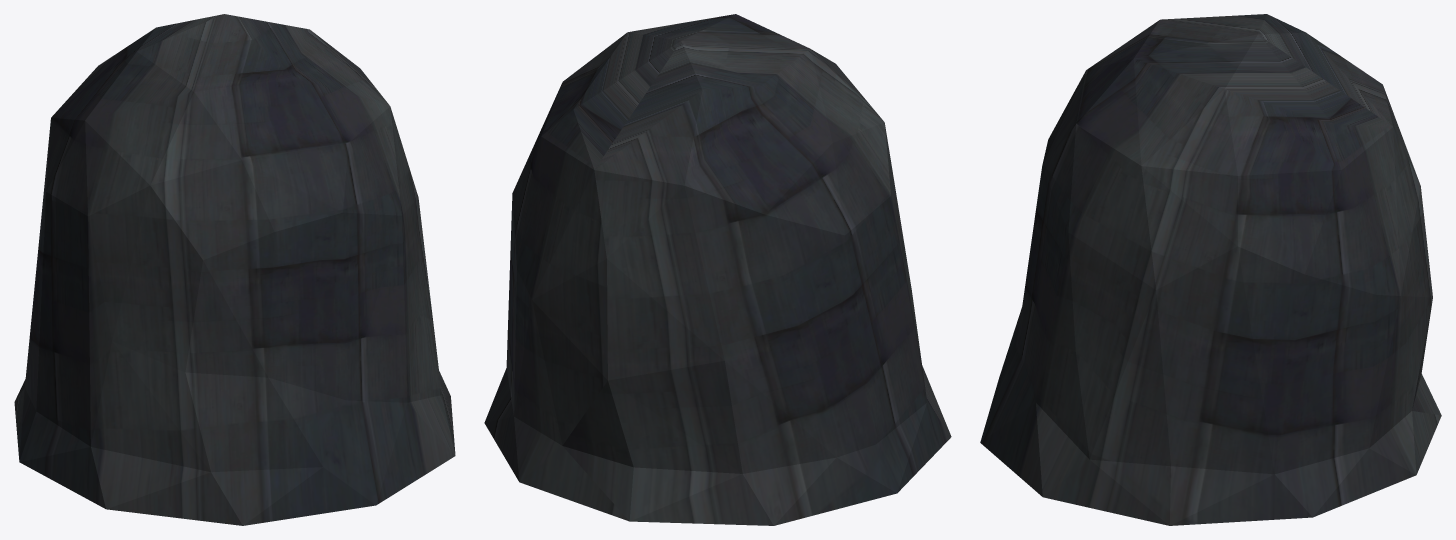
The model's file is ColdZone_Blob.gltf.
3 renders of one model, left to right at view 1: azimuth 30°, elevation 25°; view 2: azimuth 150°, elevation 25°; view 3: azimuth 270°, elevation 25°, orthographic. The views are drawn at different scales.
Parts seen in each view (by area): view 1: ColdZone_Blob; view 2: ColdZone_Blob; view 3: ColdZone_Blob.
Boxes of the visible parts, box(x1,y1,x2,y2) form: ColdZone_Blob: box(14, 14, 455, 525); ColdZone_Blob: box(484, 14, 951, 525); ColdZone_Blob: box(980, 14, 1441, 525).
Size of the model in its own units: 35.04 by 33.79 by 35.24.
Materials: 1 (1 with a texture image).
